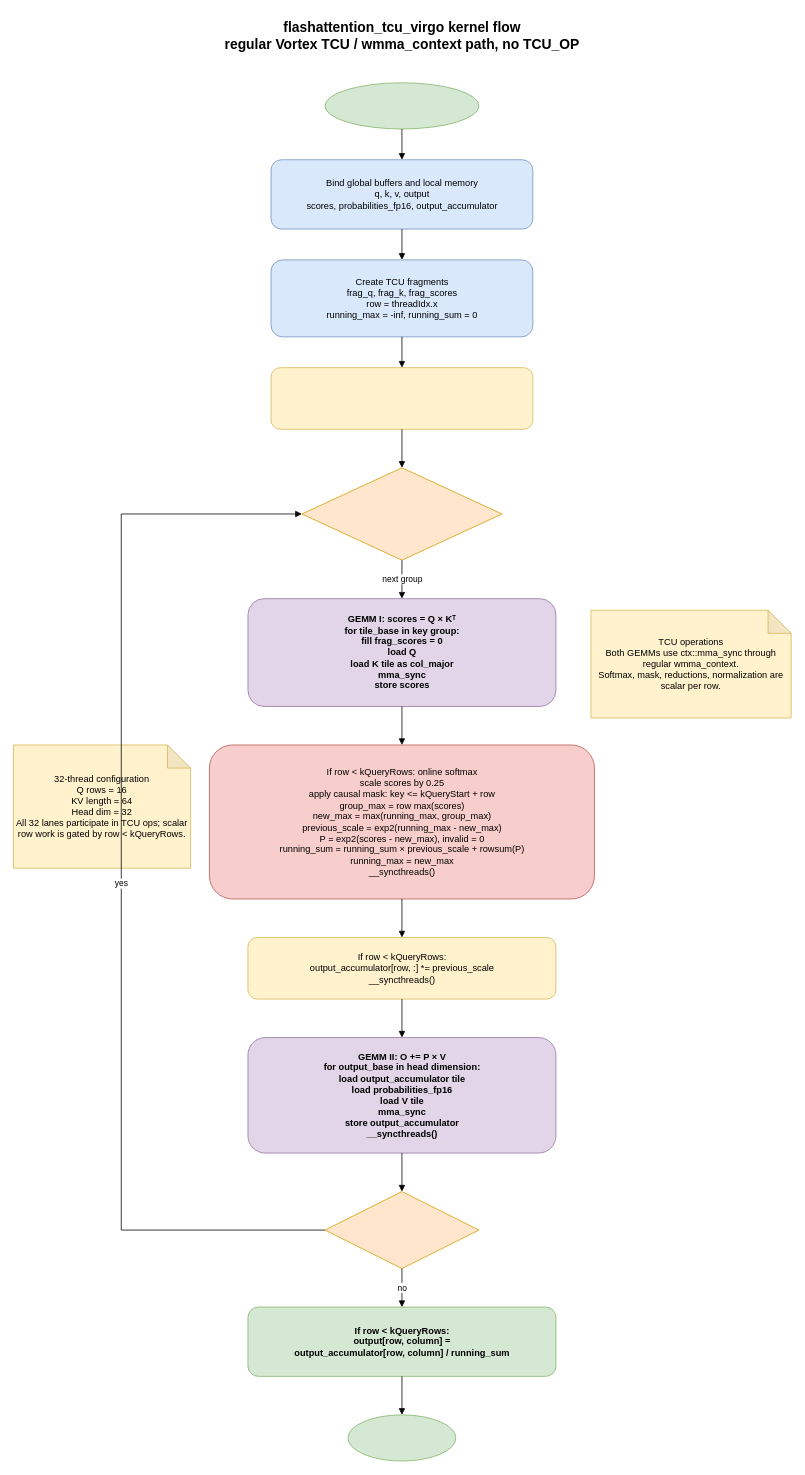
Image size: 805x1475. Some labels were removed from this diagram. Each missing label, with the centre of its shape:
"For each K/V group group_base = 0 .. kSequenceLength step kKeyGroupSize" goes at (401,513).
"If row < kQueryRows: zero output_accumulator[row, :] __syncthreads()" goes at (401,398).
"kernel_main(arg)" goes at (401,105).
"More K/V groups?" goes at (401,1230).
"return" goes at (401,1437).
